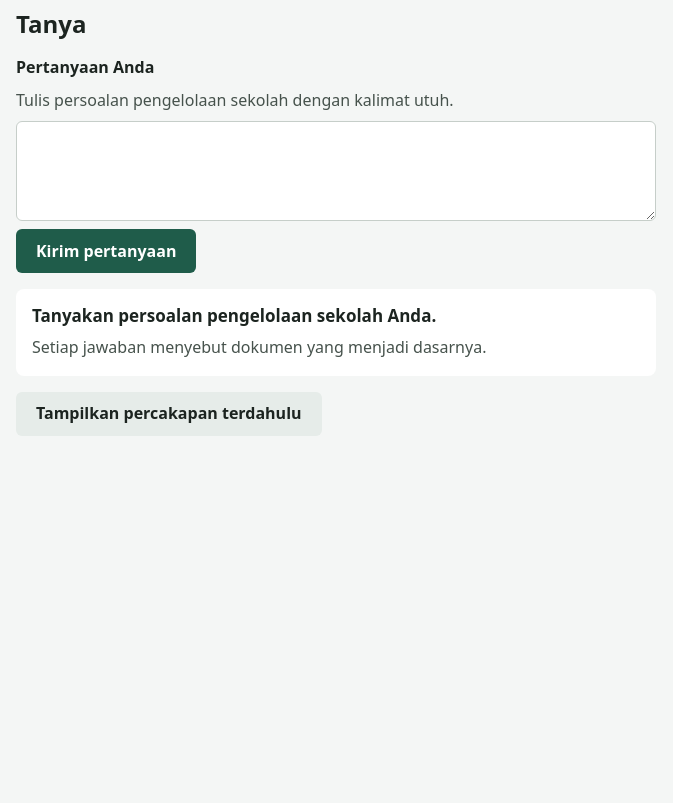
Test: R-10: blok nilai jawaban pada keempat status dasar › terbatas: tiga pilihan setara
This screenshot has width=673, height=803.
Step 1. Type "Bagaimana menyusun jadwal supervisi?" into the text box labelled "Pertanyaan Anda" → (336, 171), box [16, 121, 656, 221]
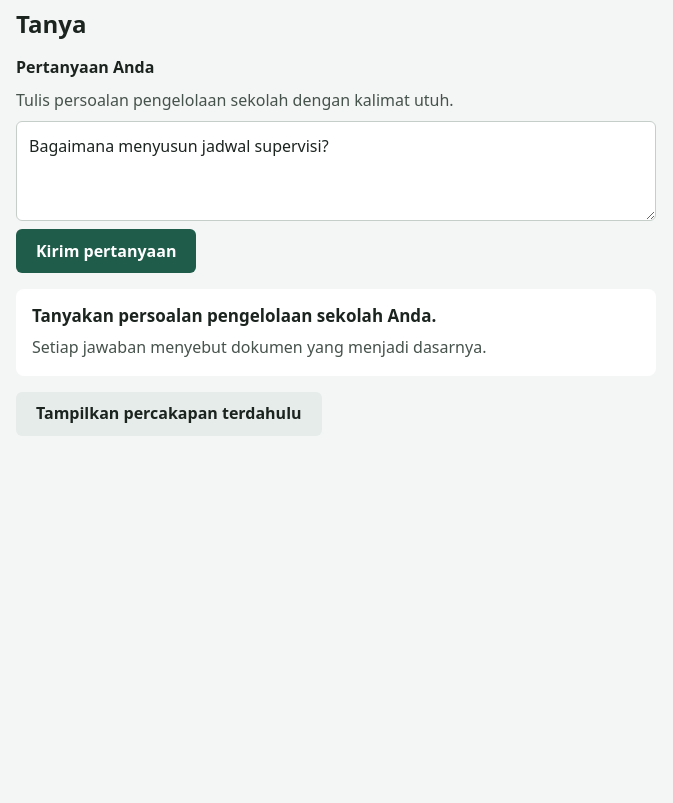
Step 2. Click the button "Kirim pertanyaan" → click(106, 251), box [16, 229, 196, 273]
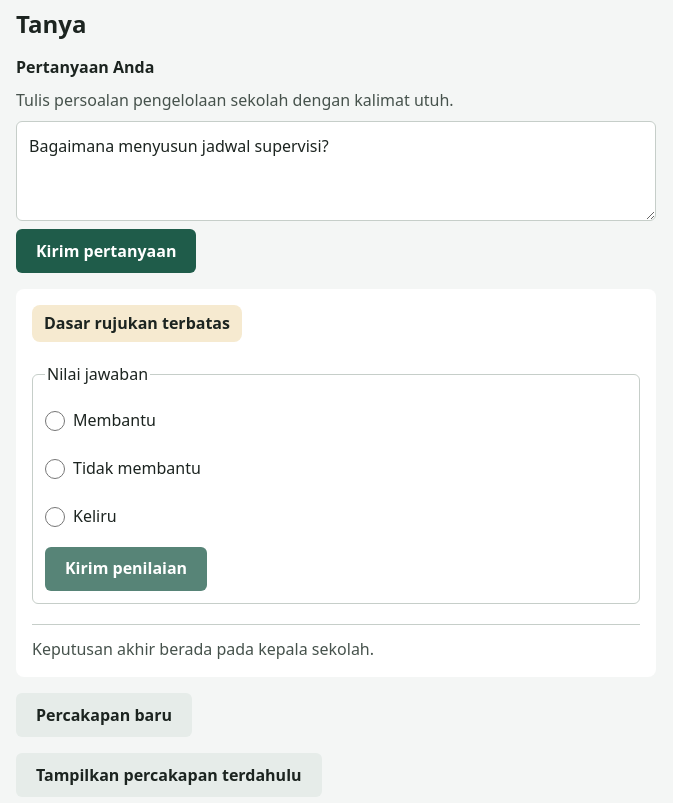
Expected: the element with test id "blok-jawaban" is shown, [16, 289, 656, 677]
Expected: the radio button labelled "Membantu" is shown, [45, 411, 65, 431]
Expected: the radio button labelled "Tidak membantu" is shown, [45, 459, 65, 479]
